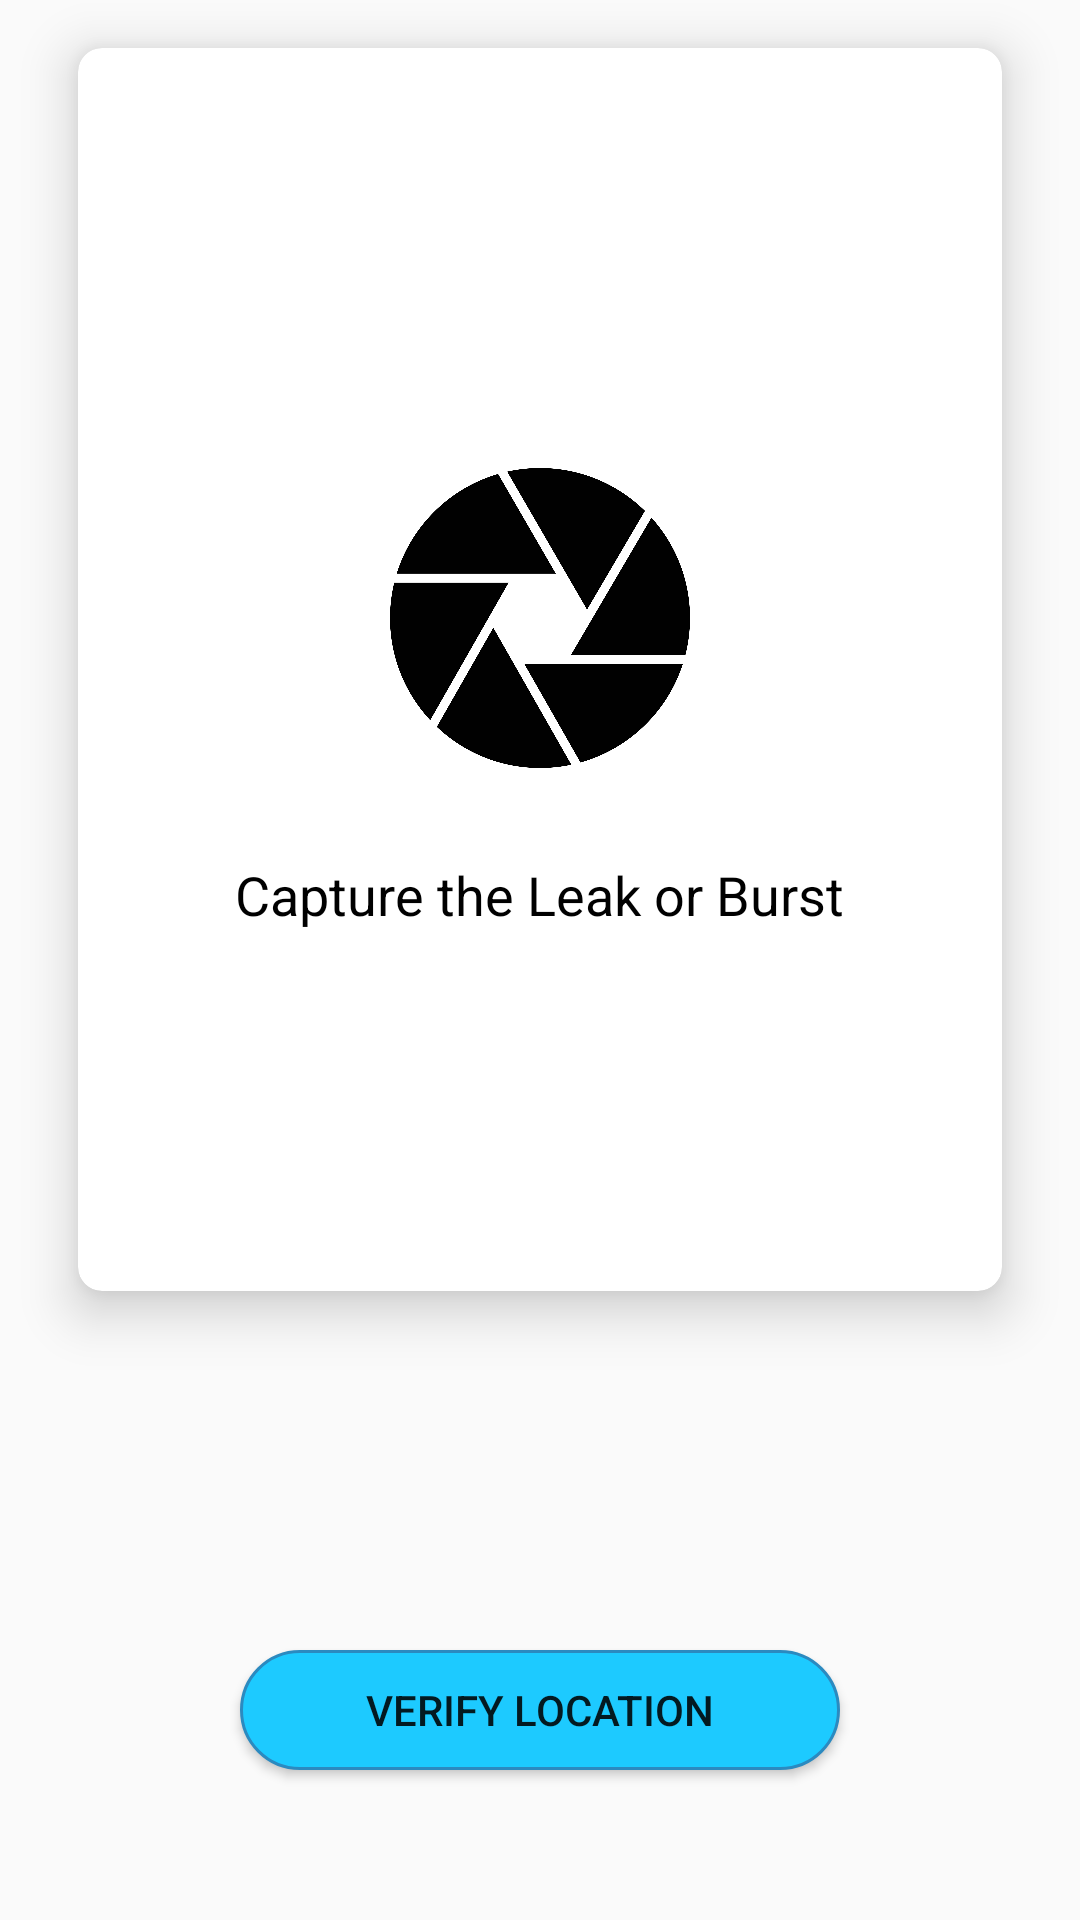

Icons on this 1080*1920 Android screen, each with the point to tap as [x,y]:
shutter: [540,618]
